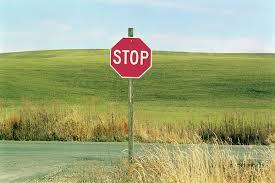Stop: (108, 31, 157, 79)
